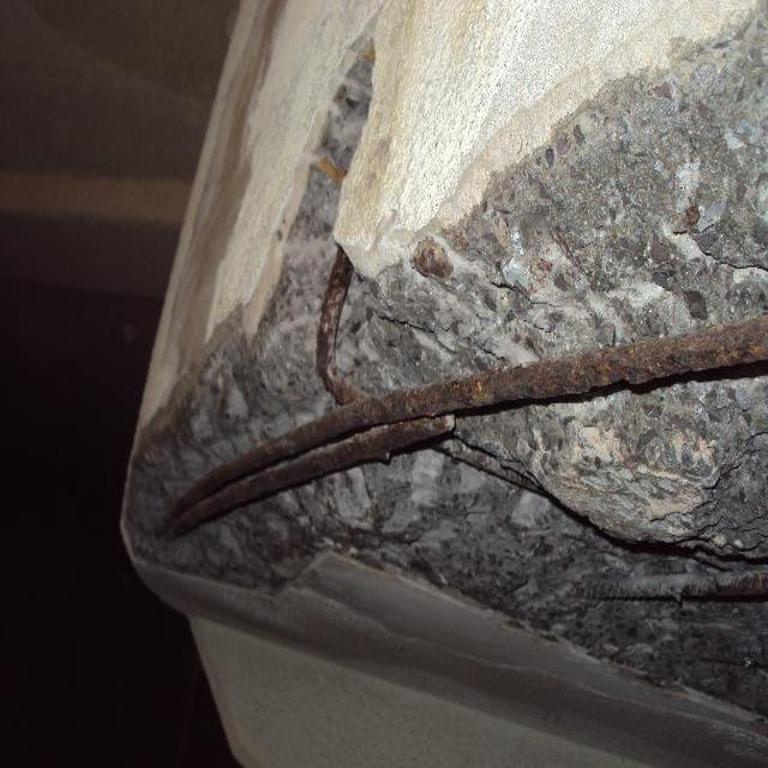exposed_rebar: (166, 249, 768, 537), (597, 568, 768, 599)
spalling: (122, 0, 768, 716)
